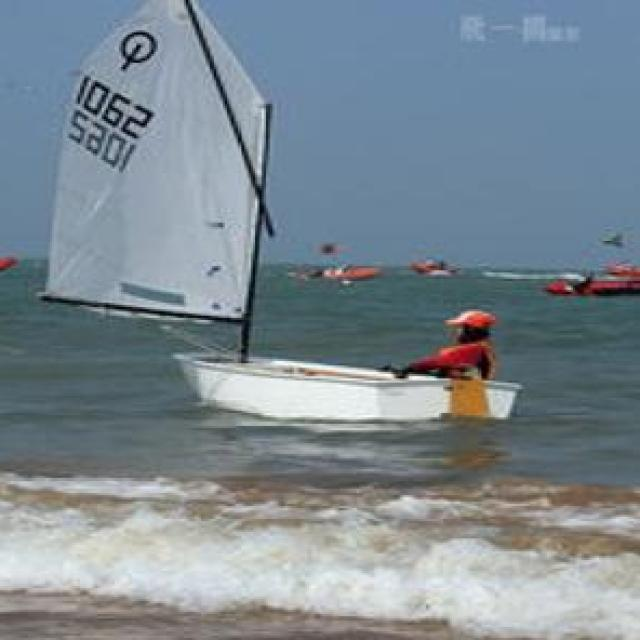sailboat: (36, 9, 516, 432)
